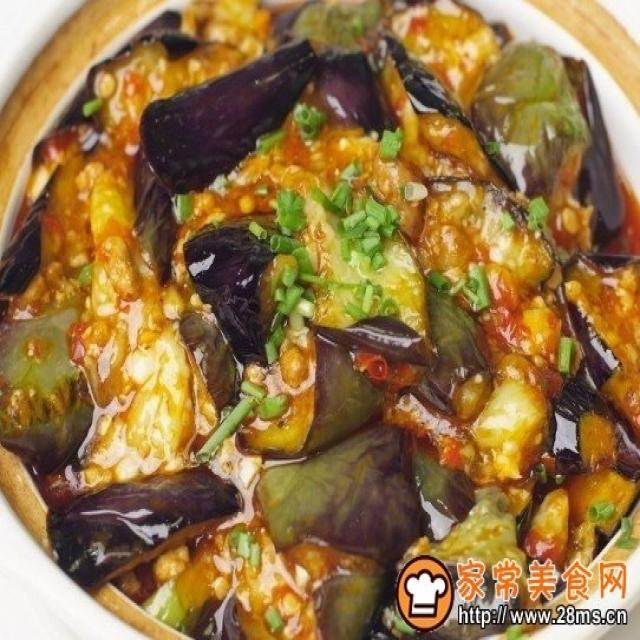鸡蛋料理: (16, 16, 616, 604)
